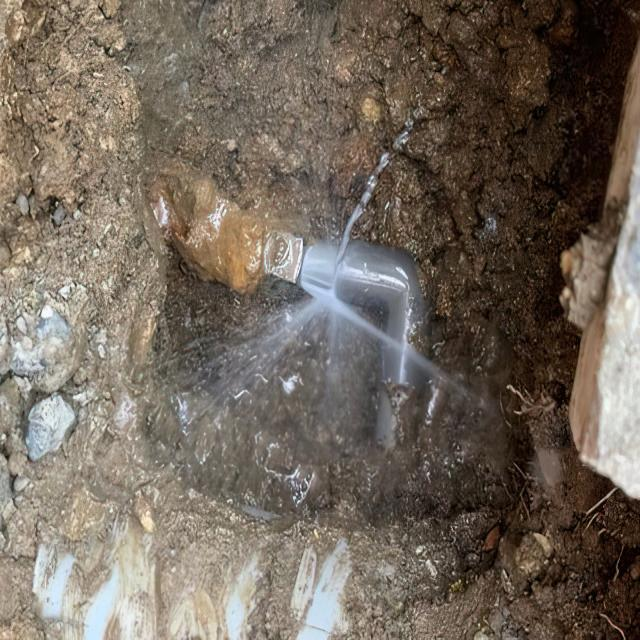pipe burst: (159, 100, 489, 462)
